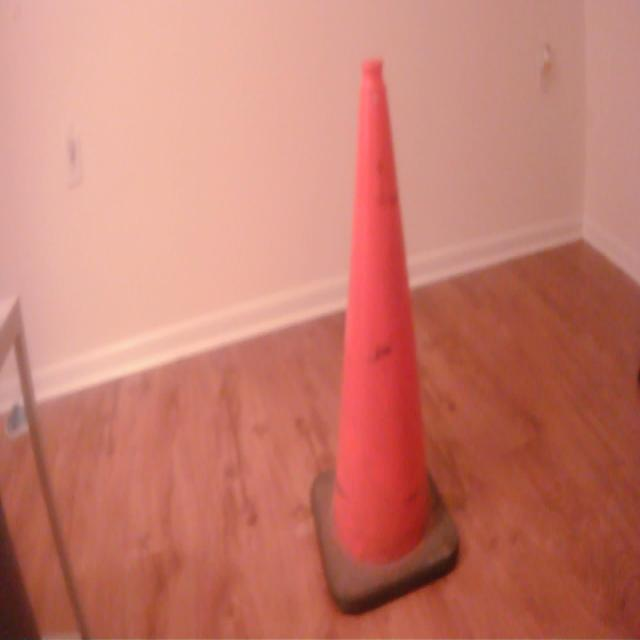traffic cone: (305, 53, 469, 626)
